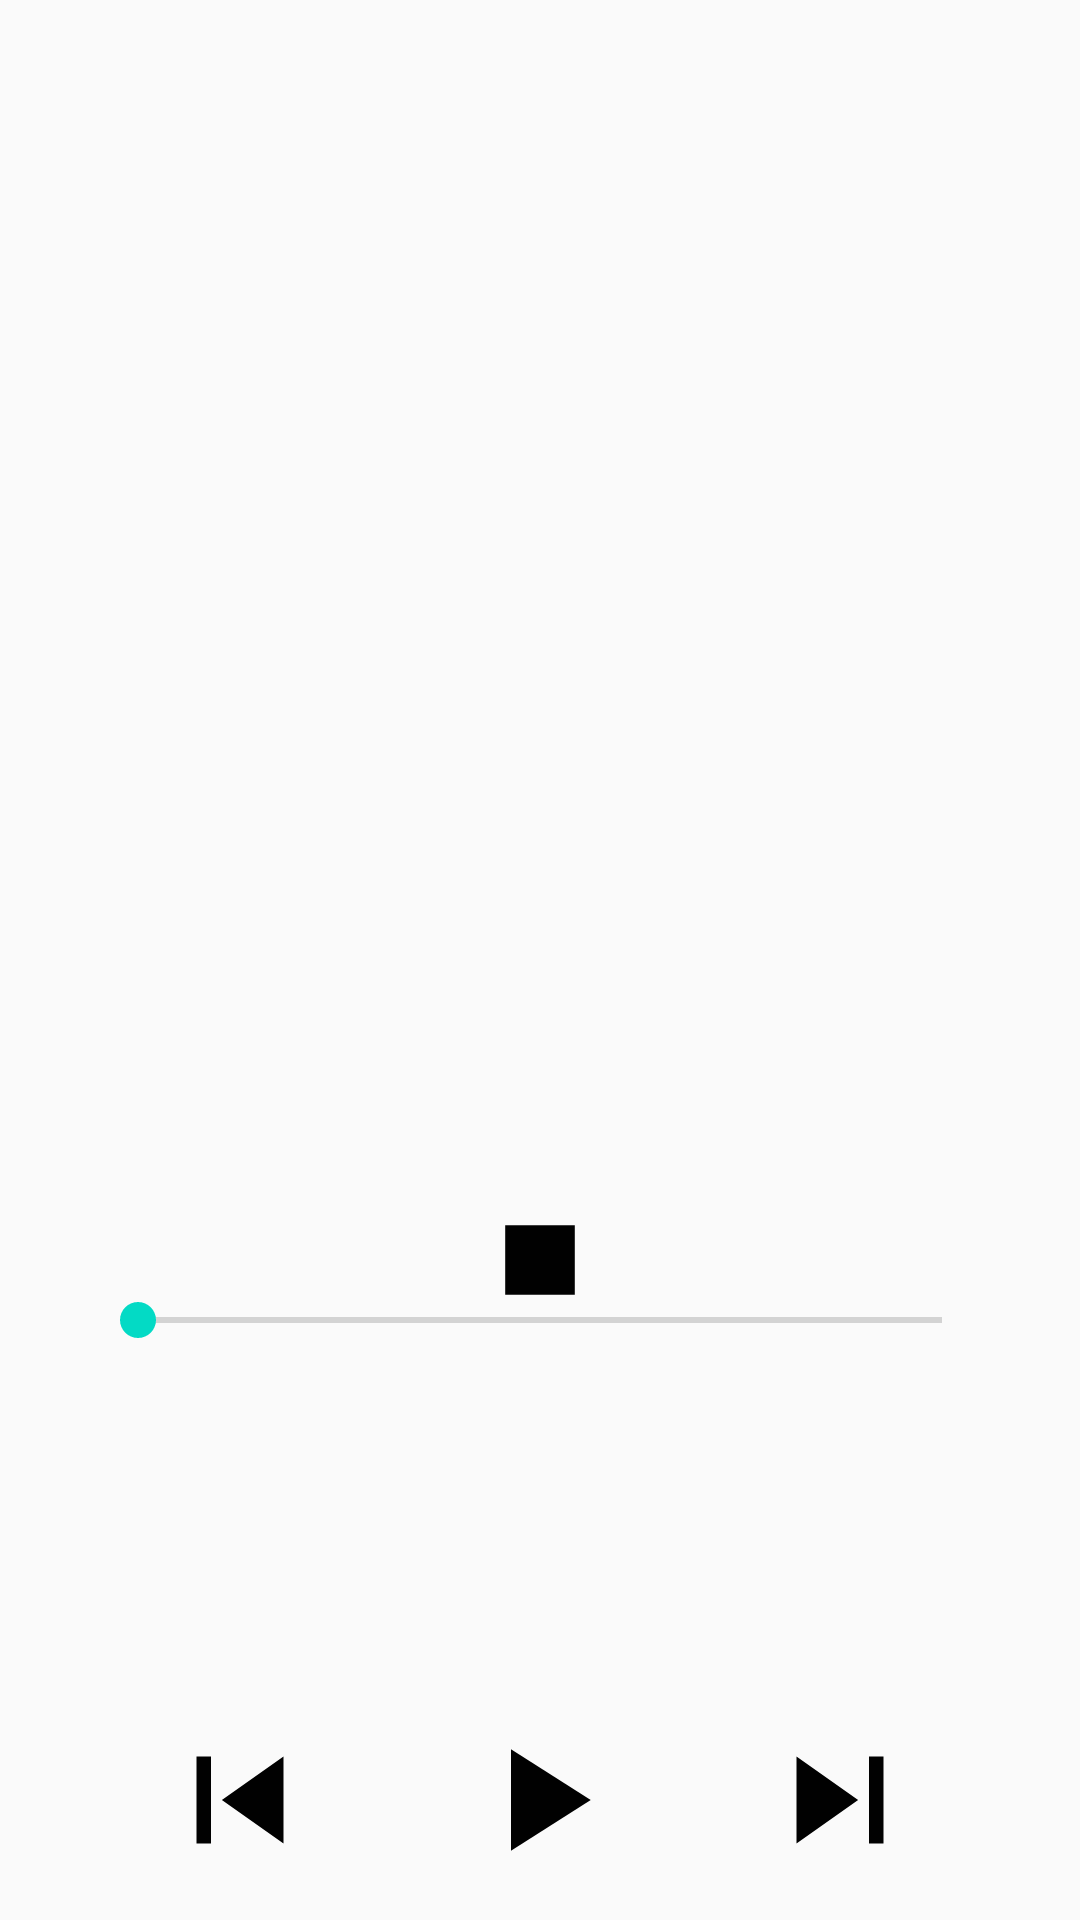

Icons on this 1080 × 1920 Android screen, each with the point to tap as (x=x, y=y):
next: (x=840, y=1800)
play: (x=551, y=1800)
prev: (x=240, y=1800)
stop: (x=540, y=1260)
